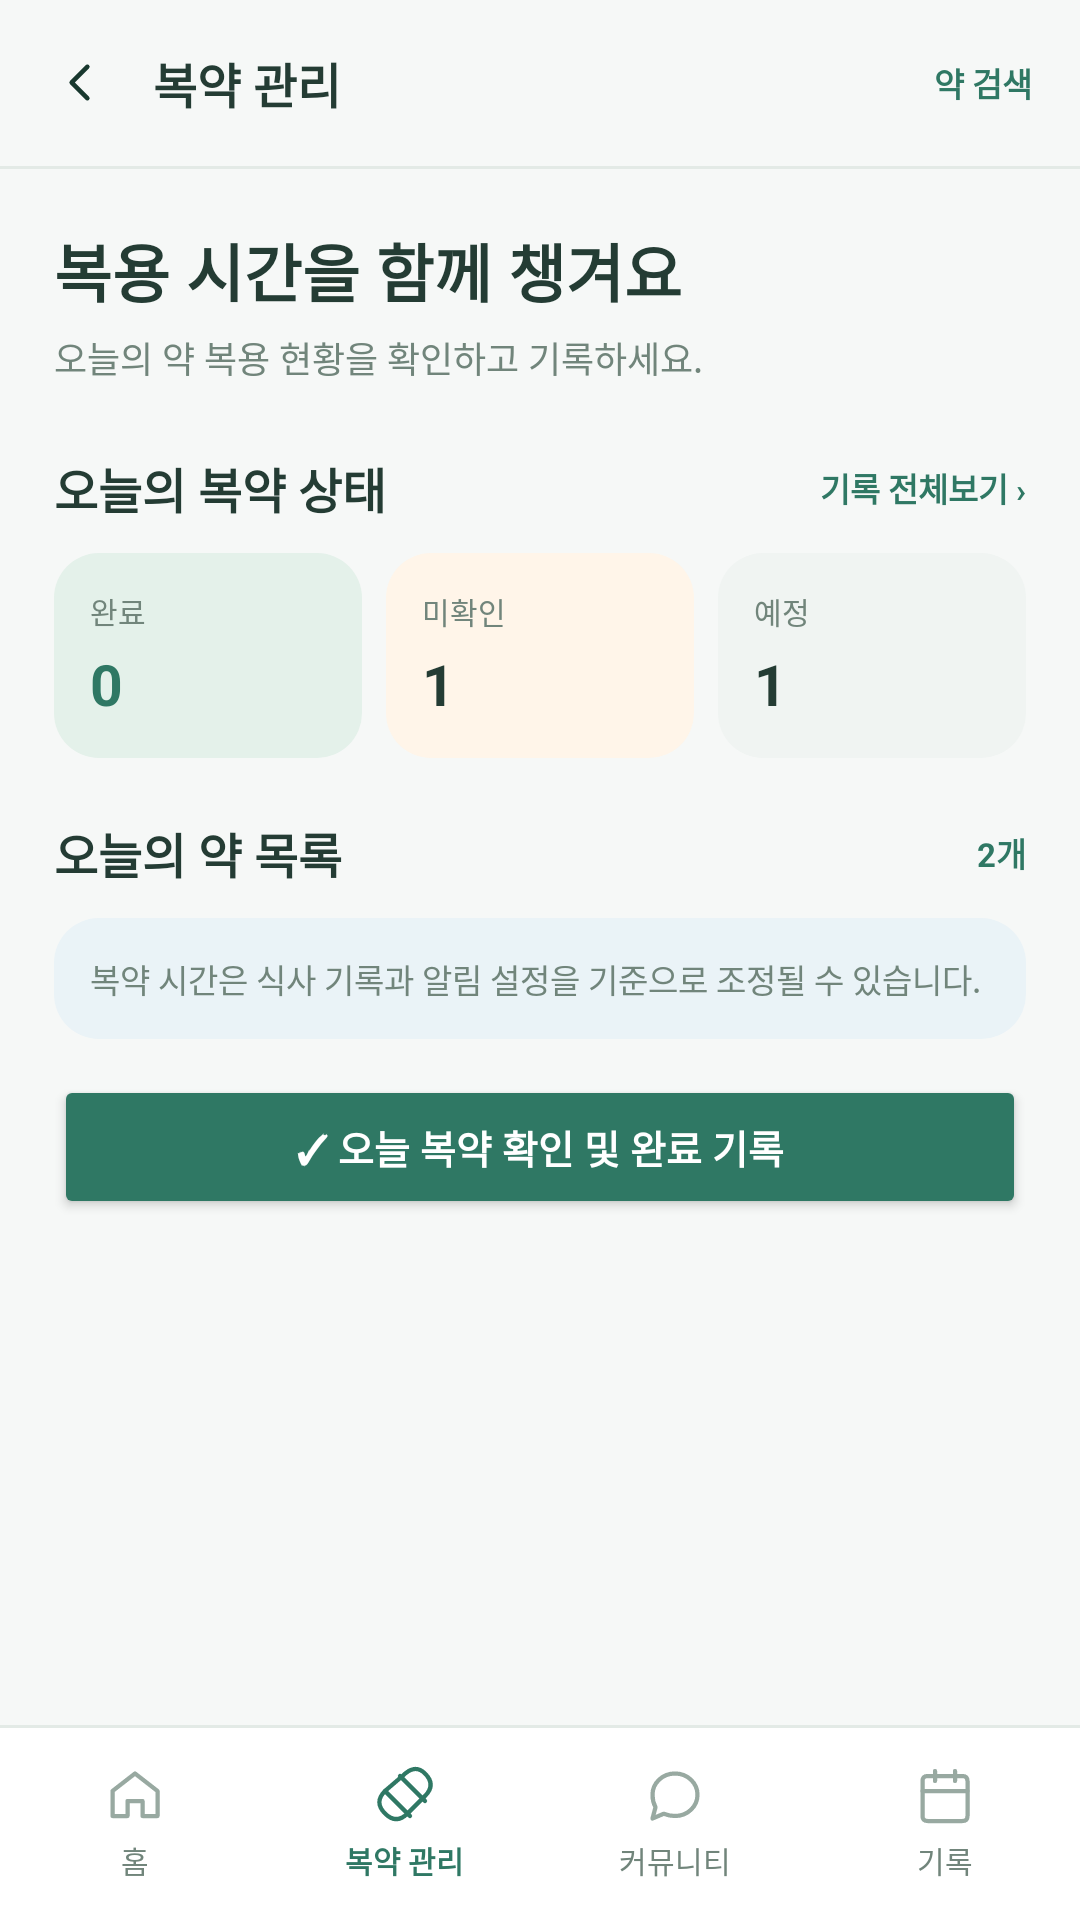

Icon click points for this 1080*1920 phone screenshot, format (x=x, y=y):
back: (x=79, y=82)
calendar: (x=945, y=1796)
chat: (x=675, y=1796)
pill: (x=405, y=1794)
